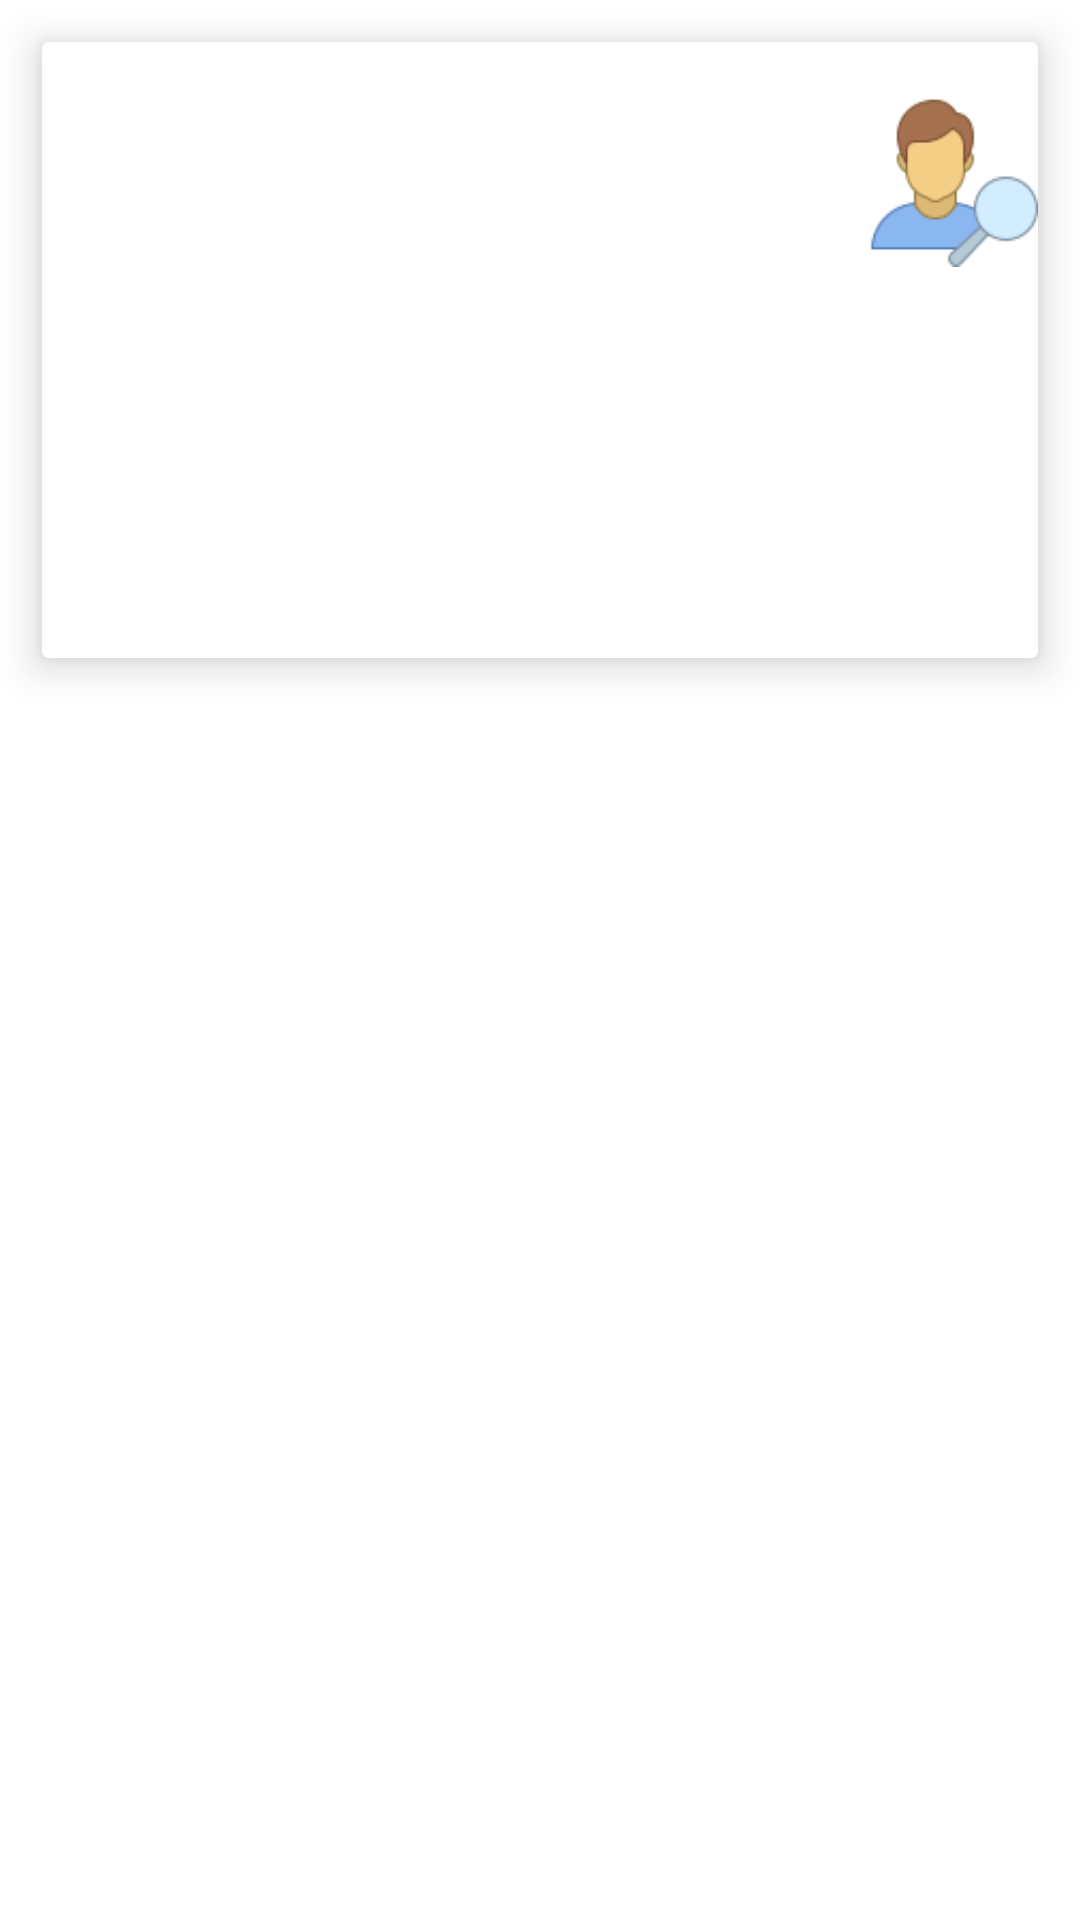

Where icons sit on this 1080px x 1920px app screen, as [left=x1, top=y1, right=x2, bottom=y2]:
find user: [left=871, top=99, right=1038, bottom=267]
